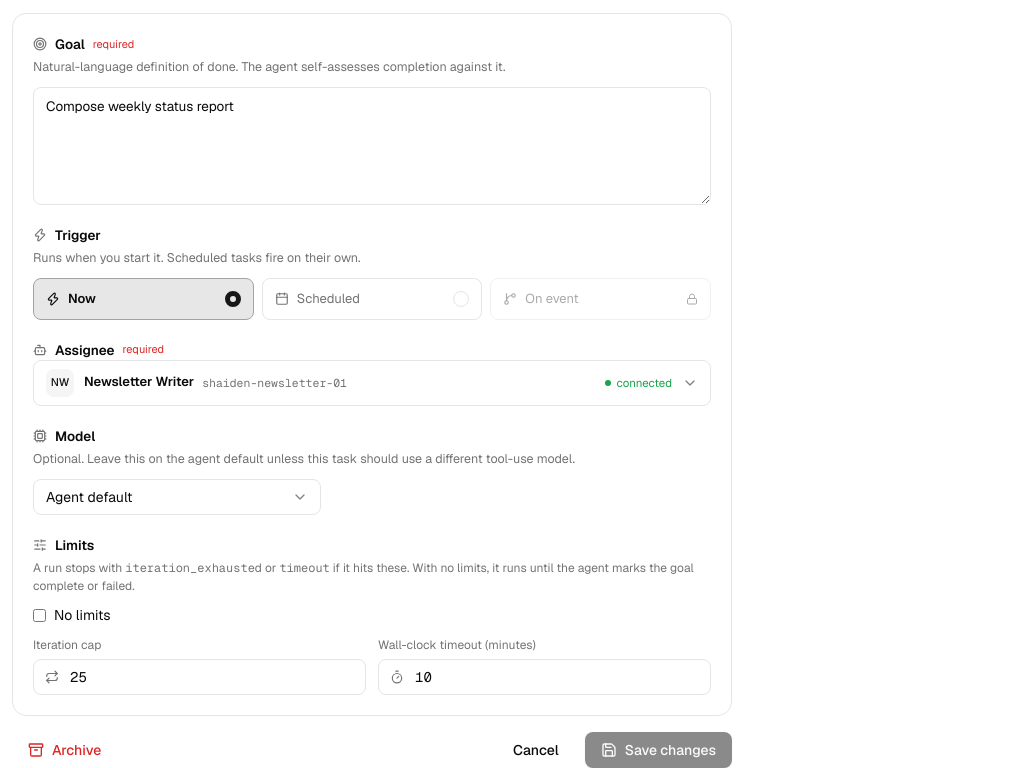
TaskAuthoringView edit mode › saves edited limits
(page scrolled)
Expected: the text box with placeholder "Describe what \"done\" looks like" holds "Compose weekly status report", [33, 87, 711, 205]
Replace the text in the number field labelled "Iteration cap" with "40". click: {"x": 200, "y": 677}
box: [33, 659, 366, 695]
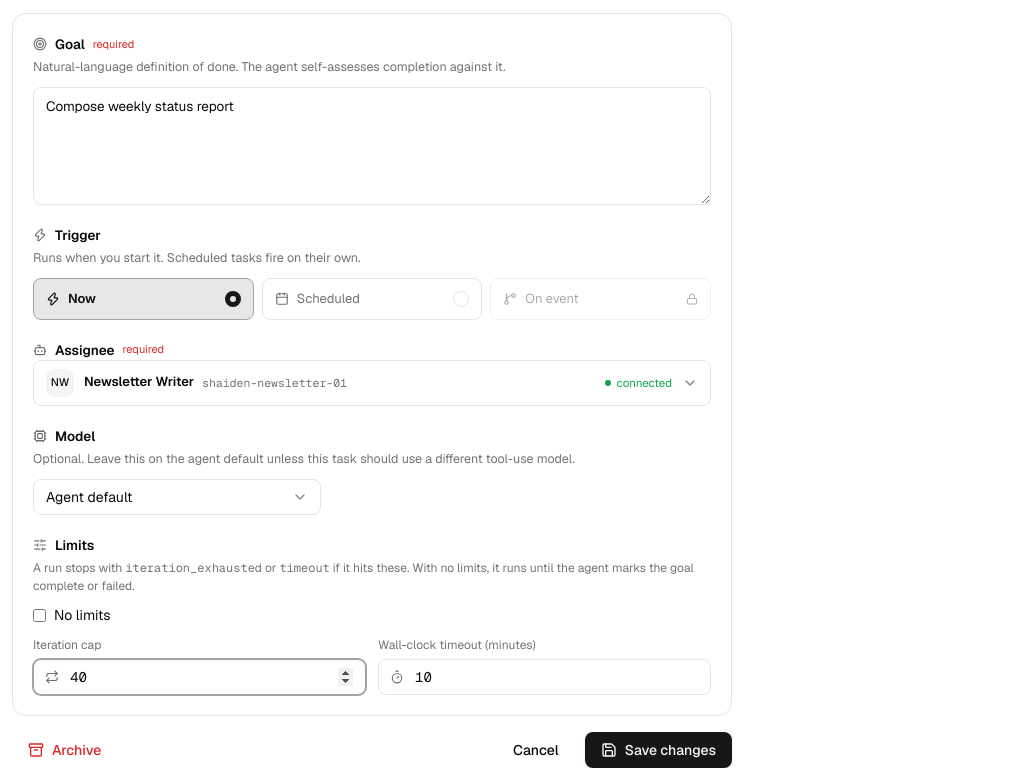
Replace the text in the number field labelled "Wall-clock timeout (minutes)" with "15". click: {"x": 544, "y": 677}
box: [378, 659, 711, 695]
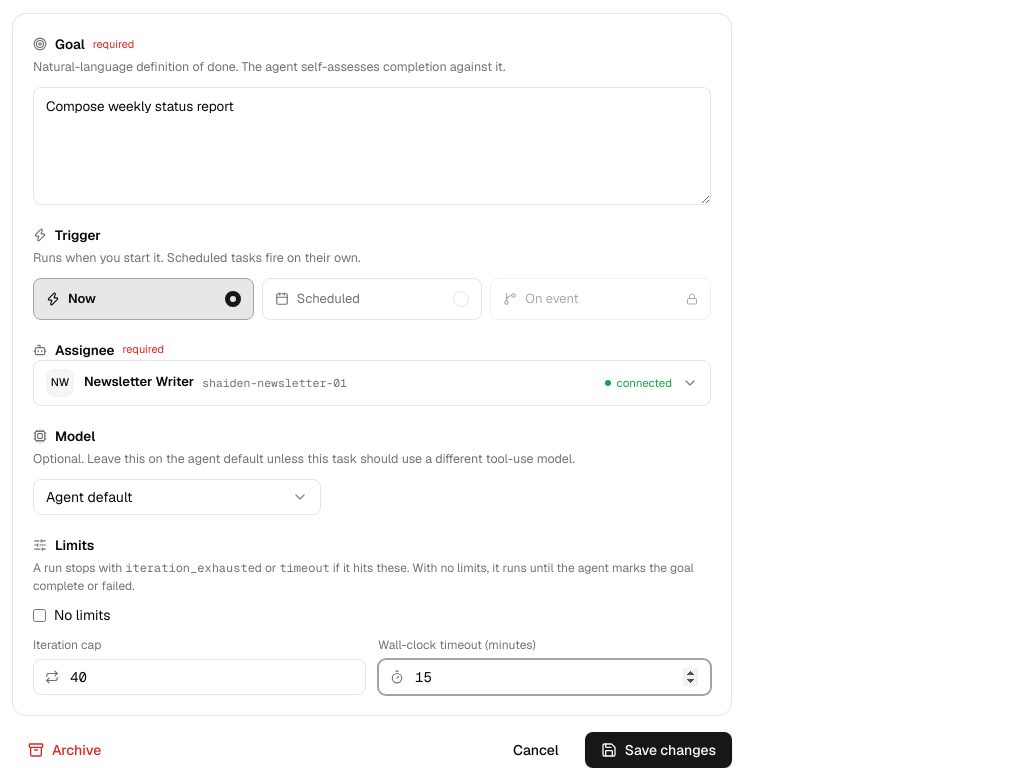
Click the button "Save changes". click: {"x": 658, "y": 750}
box: [585, 732, 732, 767]
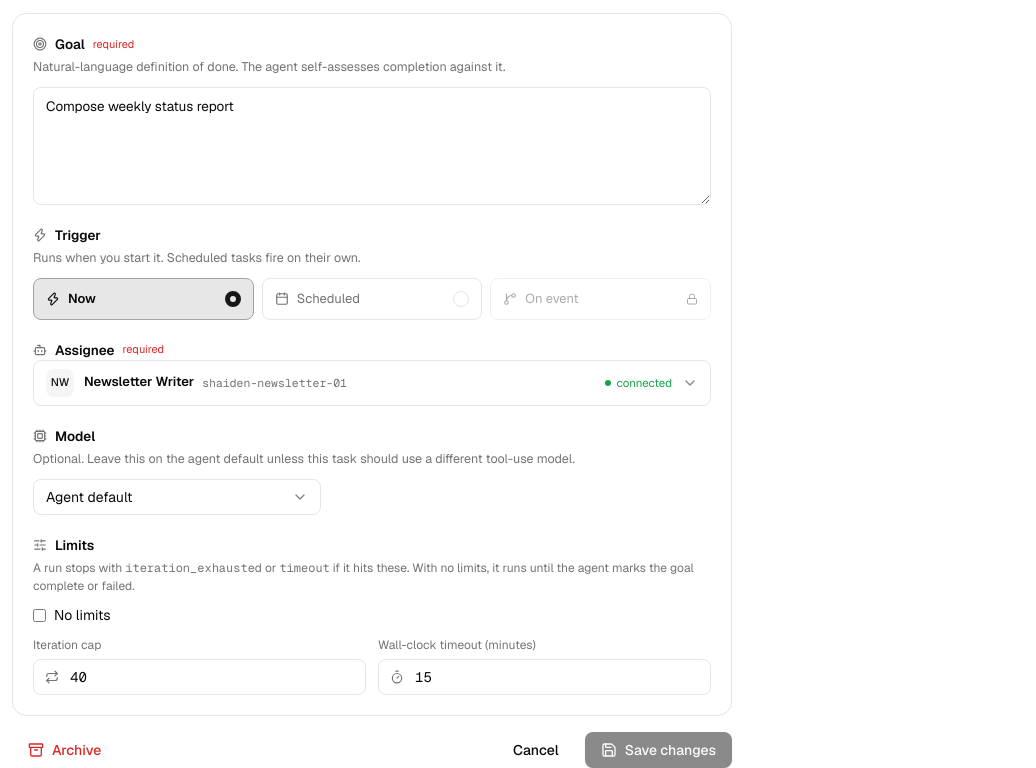
Result: the button "Save changes" is disabled at [585, 732, 732, 767]
